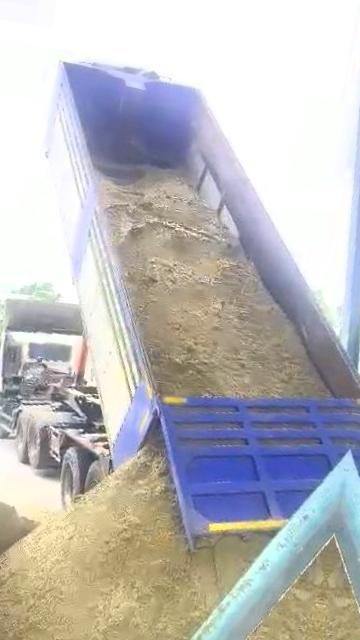sand: (100, 170, 329, 397), (0, 449, 267, 640), (169, 551, 330, 640), (0, 472, 35, 588)
